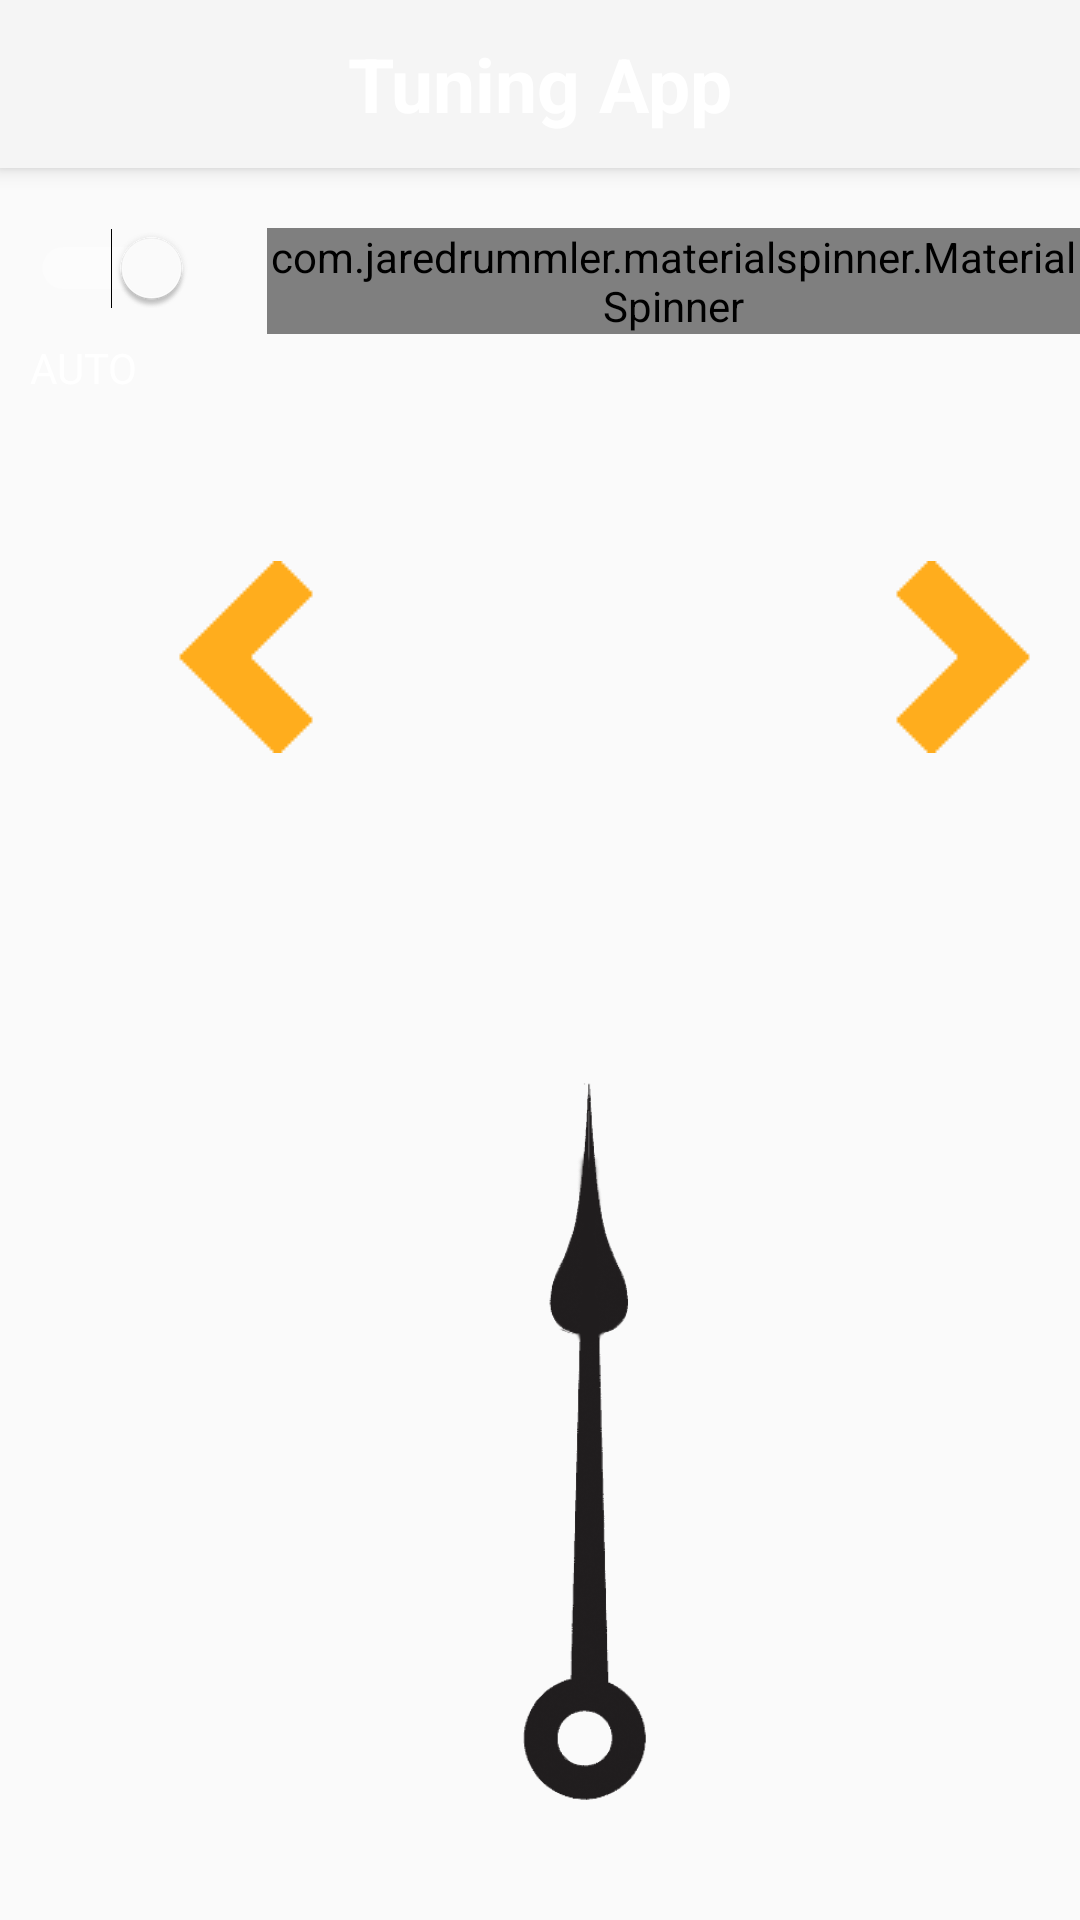

Icons on this 1080×1920 Android screen, each with the point to tap as point (x, y):
arrow left: point (246, 657)
arrow right: point (963, 657)
